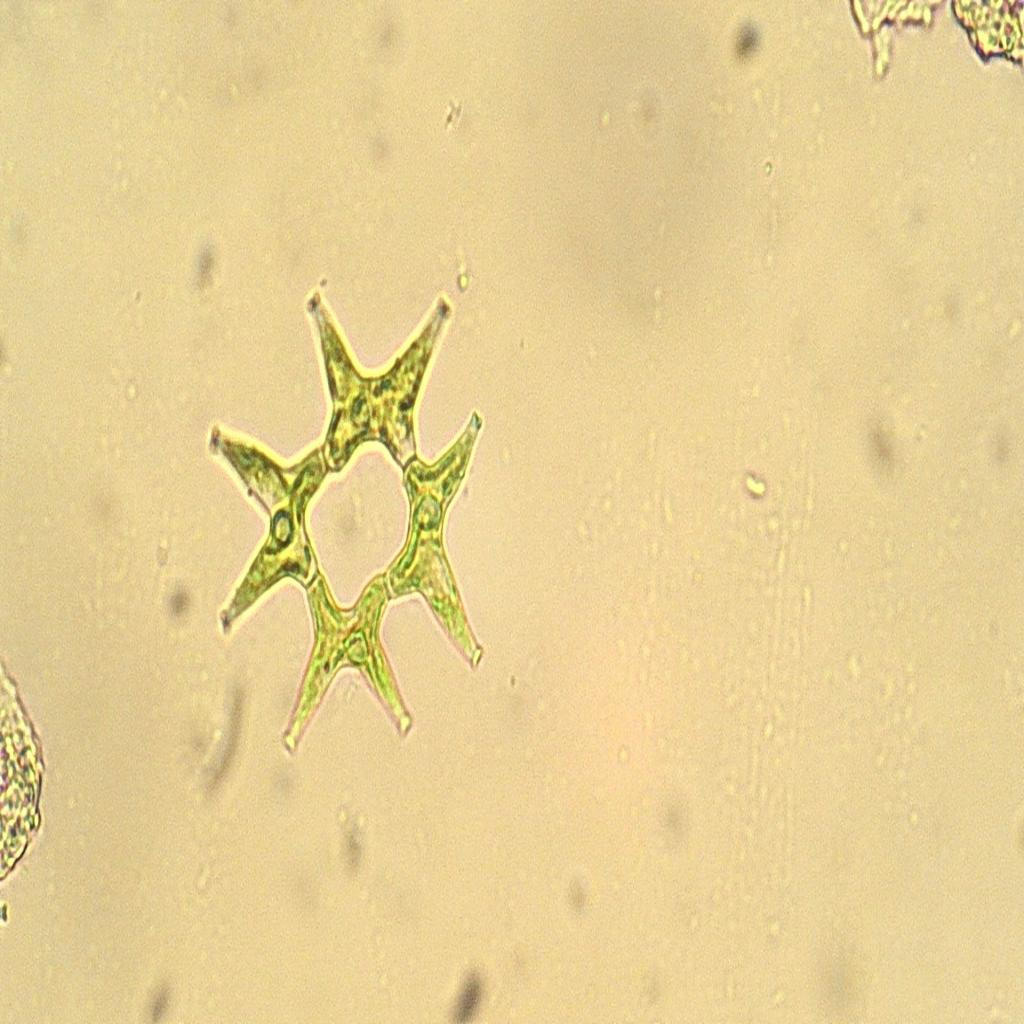Pediastrum_CO: (200, 264, 498, 775)
